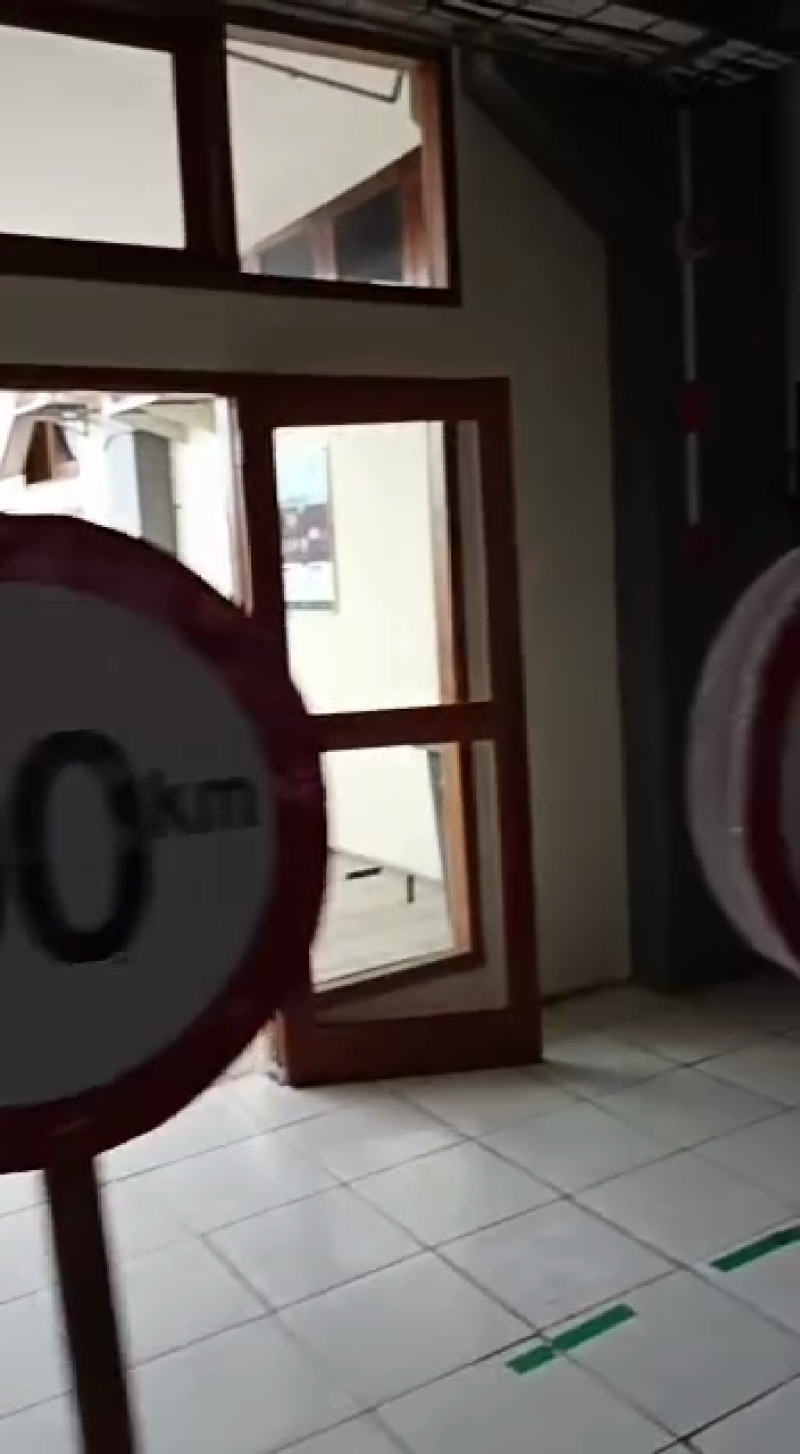batas maksimal 40kmperjam: (1, 479, 331, 1181)
